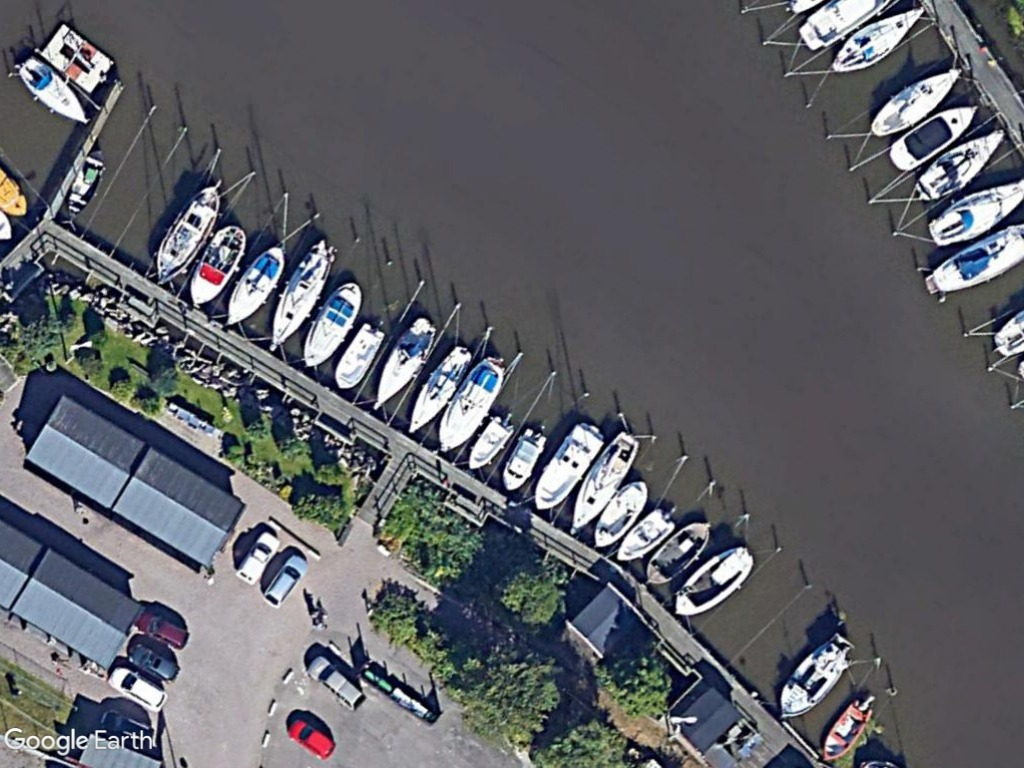boat: (563, 428, 646, 540), (263, 234, 338, 354), (148, 176, 226, 289), (864, 57, 965, 144), (432, 351, 512, 455), (908, 121, 1007, 203), (885, 99, 984, 178), (825, 3, 927, 78), (771, 635, 857, 722), (532, 417, 607, 513), (365, 313, 436, 413), (215, 237, 291, 330), (402, 339, 474, 436), (668, 544, 757, 621), (182, 222, 253, 314), (298, 276, 363, 373), (13, 52, 91, 128), (637, 515, 717, 586), (586, 478, 653, 551), (325, 320, 388, 394), (814, 695, 878, 765), (610, 504, 679, 564), (498, 422, 549, 494), (462, 412, 518, 473)
car: (305, 650, 368, 714), (107, 664, 170, 718), (259, 553, 313, 610), (232, 526, 282, 585), (121, 639, 180, 683), (285, 716, 340, 762), (134, 609, 189, 651)
